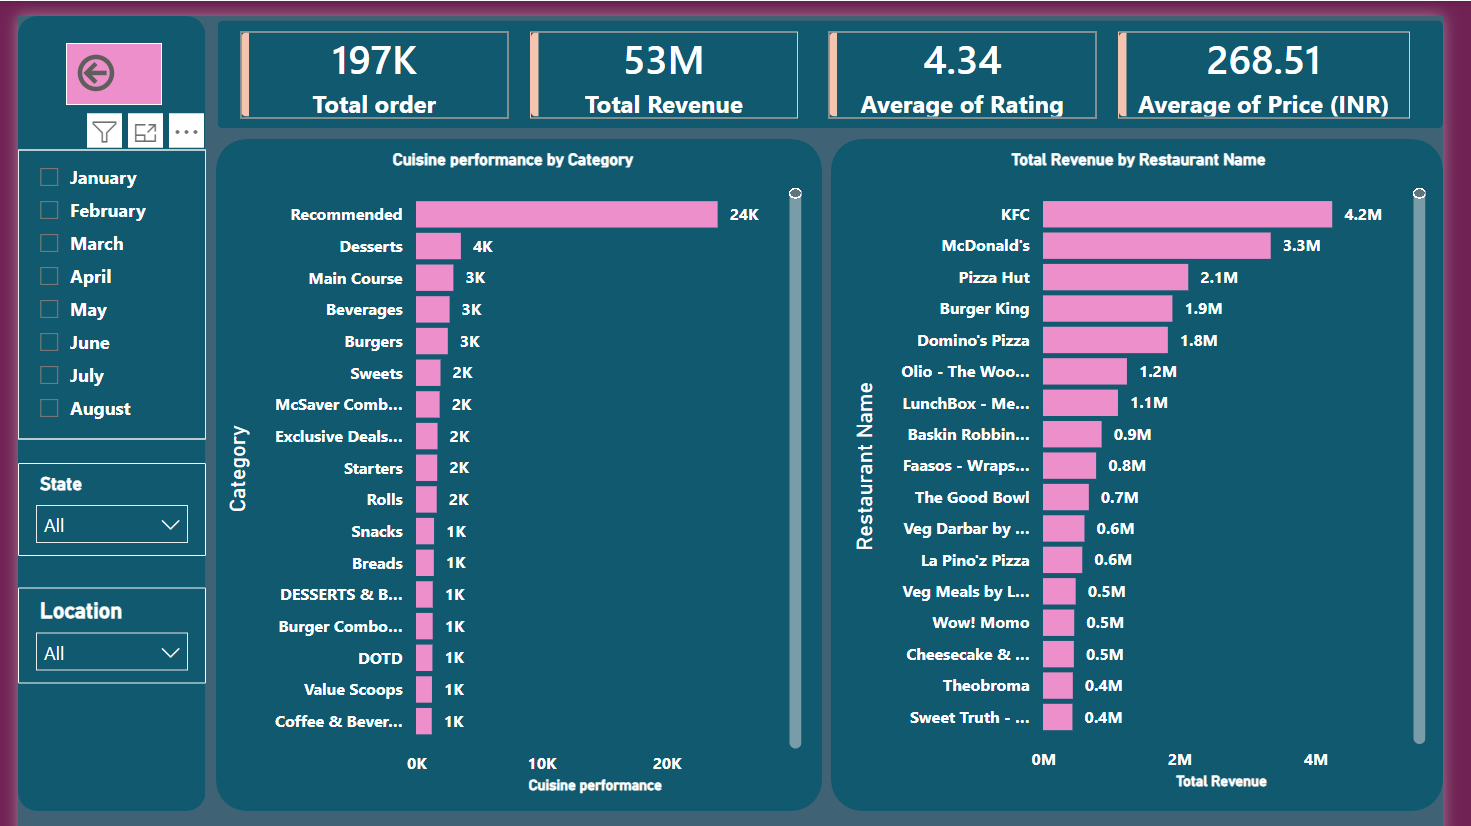

The dashboard page shown, as its layout file describes it:
{"tool":"powerbi","page":{"name":"Dashboard 2","canvas":[950,550],"ordinal":1},"visuals":[{"type":"shape","box":[542,82,408,448],"z":0},{"type":"shape","box":[0,0,125,530],"z":1000},{"type":"shape","box":[132.3,81.8,404,448.5],"z":2000},{"type":"shape","box":[133,3,817,72],"z":3000},{"type":"cardVisual","fields":{"Data":["swiggy_data.Total order"]},"box":[141,3,193,72],"z":4000},{"type":"cardVisual","fields":{"Data":["swiggy_data.Total Revenue"]},"box":[334,3,193,72],"z":5000},{"type":"cardVisual","fields":{"Data":["Avg(swiggy_data.Rating)"]},"box":[533,3,193,72],"z":6000},{"type":"slicer","fields":{"Values":["swiggy_data.Month Name"]},"box":[0,89,125,193],"z":7000},{"type":"cardVisual","fields":{"Data":["Avg(swiggy_data.Price (INR))"]},"box":[726,3,209,72],"z":8000},{"type":"slicer","fields":{"Values":["swiggy_data.State"]},"box":[0,298,125,62],"z":9000},{"type":"clusteredBarChart","fields":{"Category":["swiggy_data.Category"],"Y":["swiggy_data.Cuisine performance"]},"box":[133,89,394,434],"z":10000},{"type":"clusteredBarChart","fields":{"Category":["swiggy_data.Restaurant Name"],"Y":["swiggy_data.Total Revenue"]},"box":[551,89,392,431],"z":11000},{"type":"slicer","fields":{"Values":["swiggy_data.Location"]},"box":[0,381,125,64],"z":12000},{"type":"actionButton","box":[32,18,64,41],"z":13000}]}

Visuals, with their boxes on the page's 950x550 design canvas (x1, y1, x2, y2). These are canvas units, not pixel positions in the 1471x826 screenshot, which may show the page scaled, cropped or inside an application window:
shape: (x1=542, y1=82, x2=950, y2=530)
shape: (x1=0, y1=0, x2=125, y2=530)
shape: (x1=132, y1=82, x2=536, y2=530)
shape: (x1=133, y1=3, x2=950, y2=75)
cardVisual - swiggy_data.Total order: (x1=141, y1=3, x2=334, y2=75)
cardVisual - swiggy_data.Total Revenue: (x1=334, y1=3, x2=527, y2=75)
cardVisual - Avg(swiggy_data.Rating): (x1=533, y1=3, x2=726, y2=75)
slicer - swiggy_data.Month Name: (x1=0, y1=89, x2=125, y2=282)
cardVisual - Avg(swiggy_data.Price (INR)): (x1=726, y1=3, x2=935, y2=75)
slicer - swiggy_data.State: (x1=0, y1=298, x2=125, y2=360)
clusteredBarChart - swiggy_data.Category x swiggy_data.Cuisine performance: (x1=133, y1=89, x2=527, y2=523)
clusteredBarChart - swiggy_data.Restaurant Name x swiggy_data.Total Revenue: (x1=551, y1=89, x2=943, y2=520)
slicer - swiggy_data.Location: (x1=0, y1=381, x2=125, y2=445)
actionButton: (x1=32, y1=18, x2=96, y2=59)
